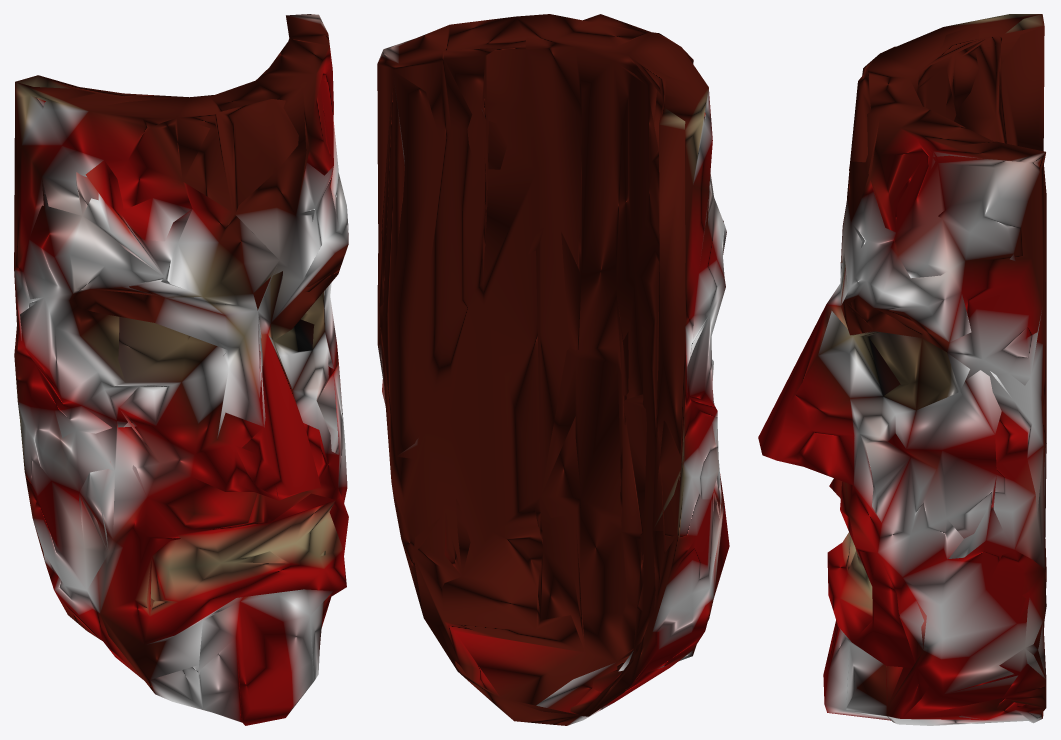
File: gen3d-tribal-mask-lod0.glb
3 renders of one model, left to right at view 1: azimuth 30°, elevation 25°; view 2: azimuth 150°, elevation 25°; view 3: azimuth 270°, elevation 25°, orthographic. The views are drawn at different scales.
Visible parts, largest first — view 1: part_0; view 2: part_0; view 3: part_0.
Boxes of the visible parts, <box> form: part_0: <box>14,14,348,725</box>; part_0: <box>377,14,729,725</box>; part_0: <box>758,14,1046,725</box>.
Bounding box in the file's own units: 0.5038 × 0.9919 × 0.4119.
